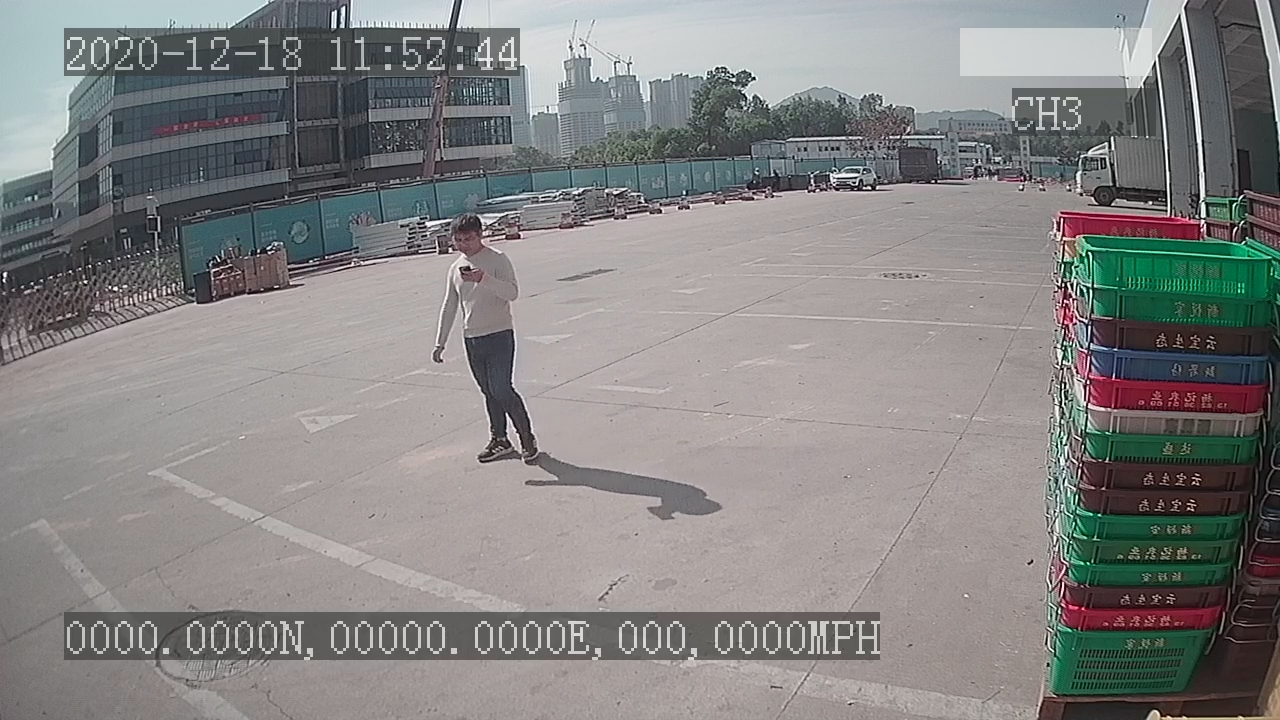person: (418, 208, 543, 469)
